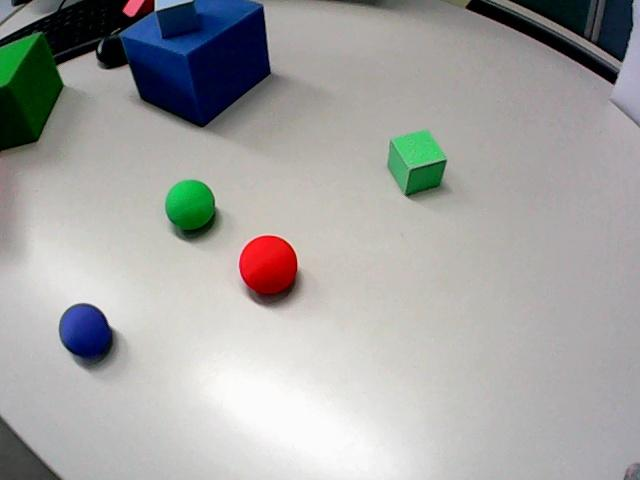blue_block: (121, 0, 269, 125), (155, 0, 198, 38), (623, 463, 639, 479)
